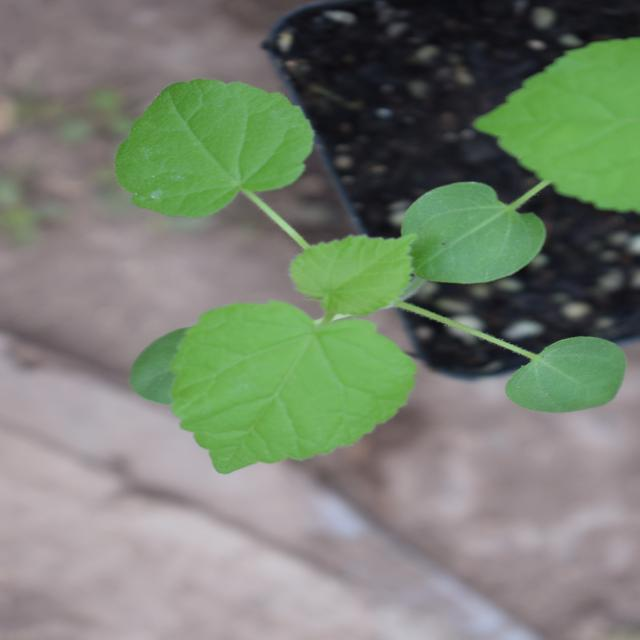abutilon theophrasti: (70, 6, 480, 564)
